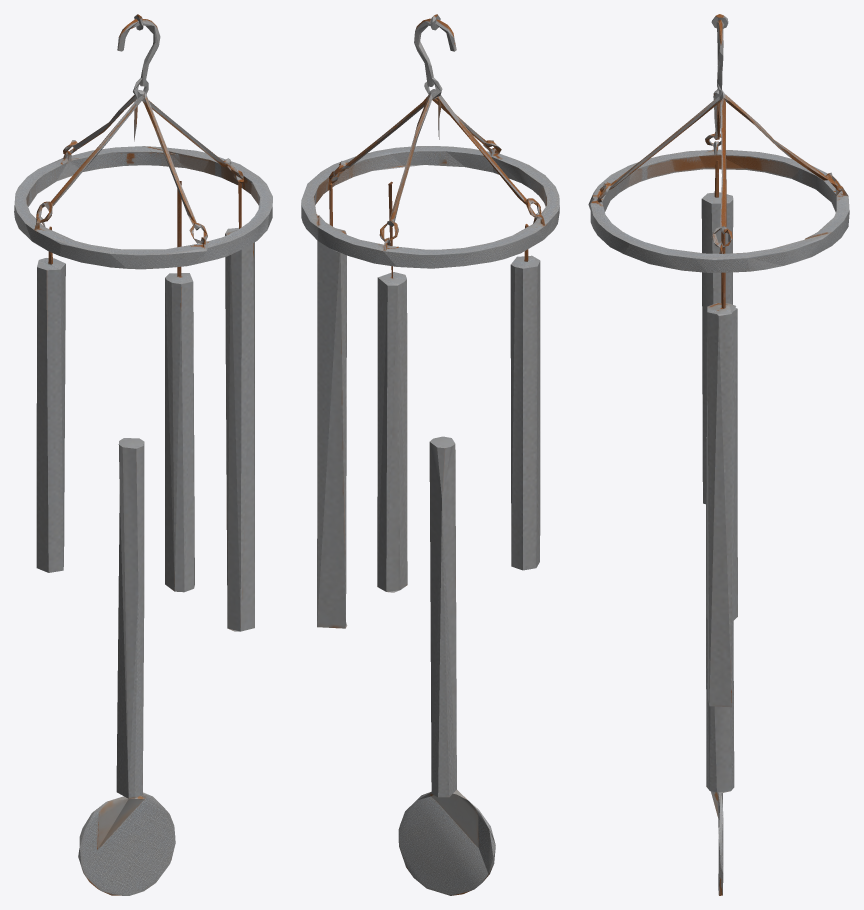
File: Wind_chimes.glb
The picture shows the model from 3 angles, left to right: view 1: azimuth 30°, elevation 25°; view 2: azimuth 150°, elevation 25°; view 3: azimuth 270°, elevation 25°; orthographic projection.
Size of the model in its own units: 0.5091 by 1.9 by 0.5114.
1 material, 1 textured.
